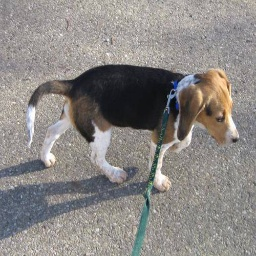dog: (23, 59, 239, 192)
